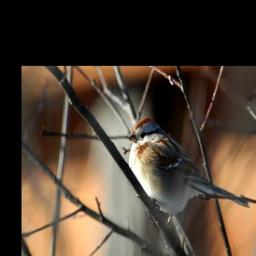Sparrow: (127, 116, 252, 223)
